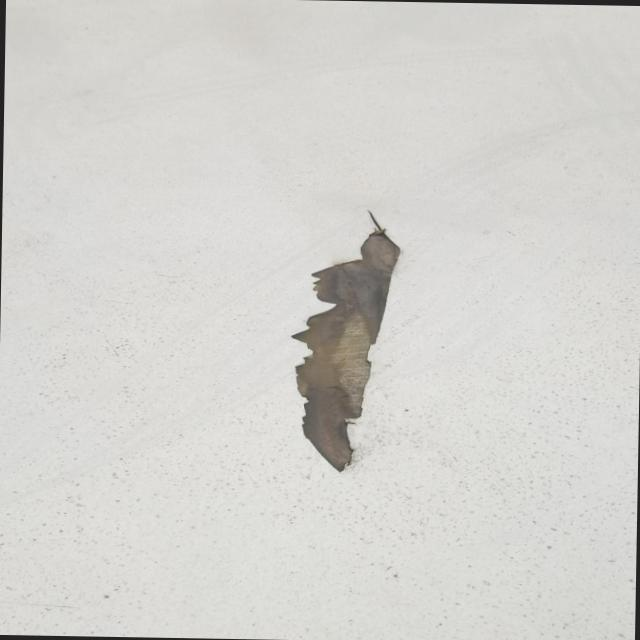surface_peeling: (288, 206, 406, 477)
